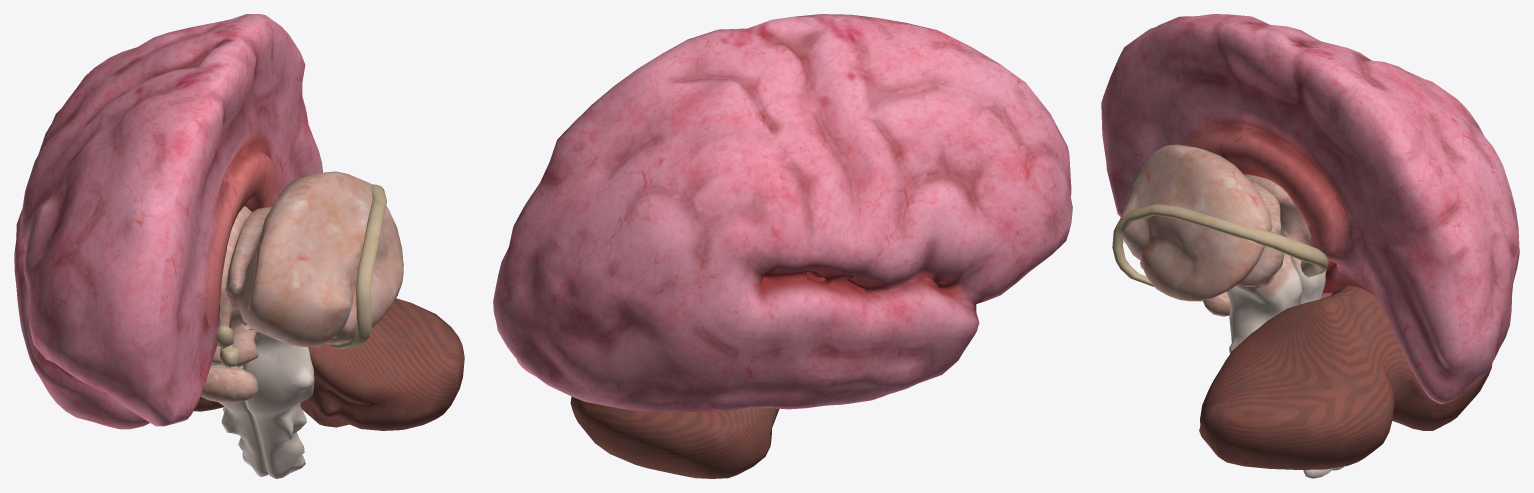
The model's file is cerebro.glb.
3 views of the same model, side by side, from view 1: azimuth 30°, elevation 25°; view 2: azimuth 150°, elevation 25°; view 3: azimuth 270°, elevation 25° (orthographic). The views are drawn at different scales.
Parts seen in each view (by area): view 1: hemisferiodireito, cerebeloesquerdo, cortex, cerebelodireito, corpo, amigdala; view 2: hemisferiodireito, cortex; view 3: hemisferiodireito, cortex, cerebeloesquerdo, corpo, cerebelodireito, amigdala.
Part boxes in pixels (box(x1,y1,x2,y2)): hemisferiodireito: box(14, 14, 322, 429); cerebeloesquerdo: box(225, 171, 403, 478); cortex: box(193, 298, 464, 430); cerebelodireito: box(211, 206, 268, 476); corpo: box(220, 184, 386, 367); amigdala: box(200, 364, 258, 403); hemisferiodireito: box(493, 14, 1072, 412); cortex: box(570, 396, 779, 478); hemisferiodireito: box(1101, 14, 1519, 404); cortex: box(1199, 285, 1492, 469); cerebeloesquerdo: box(1119, 144, 1333, 478); corpo: box(1112, 204, 1328, 286); cerebelodireito: box(1244, 174, 1343, 470); amigdala: box(1203, 292, 1230, 316).
Bounding box in the file's own units: 1.2 × 1.16 × 1.08.
1 material, 1 textured.
